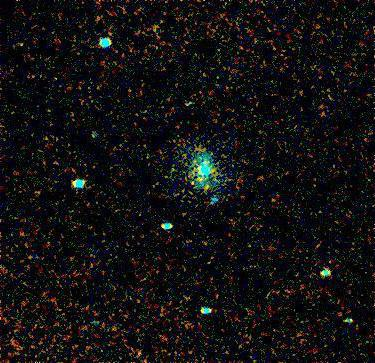star: (178, 169, 208, 199)
